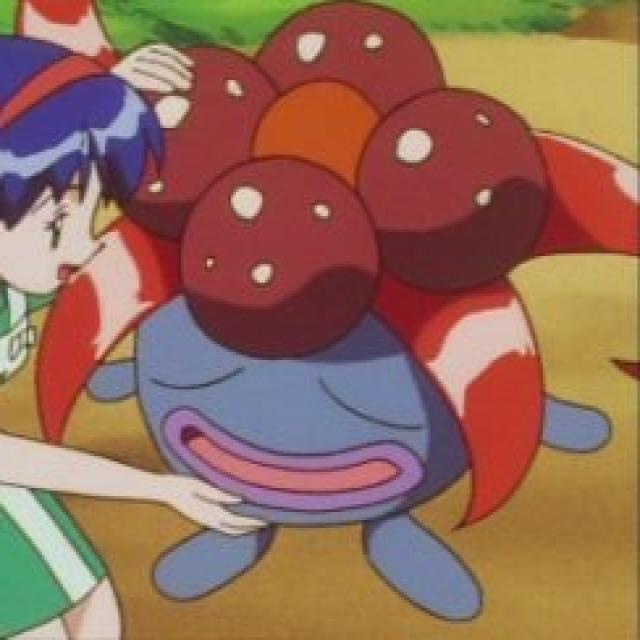Gloom: (116, 0, 546, 598)
